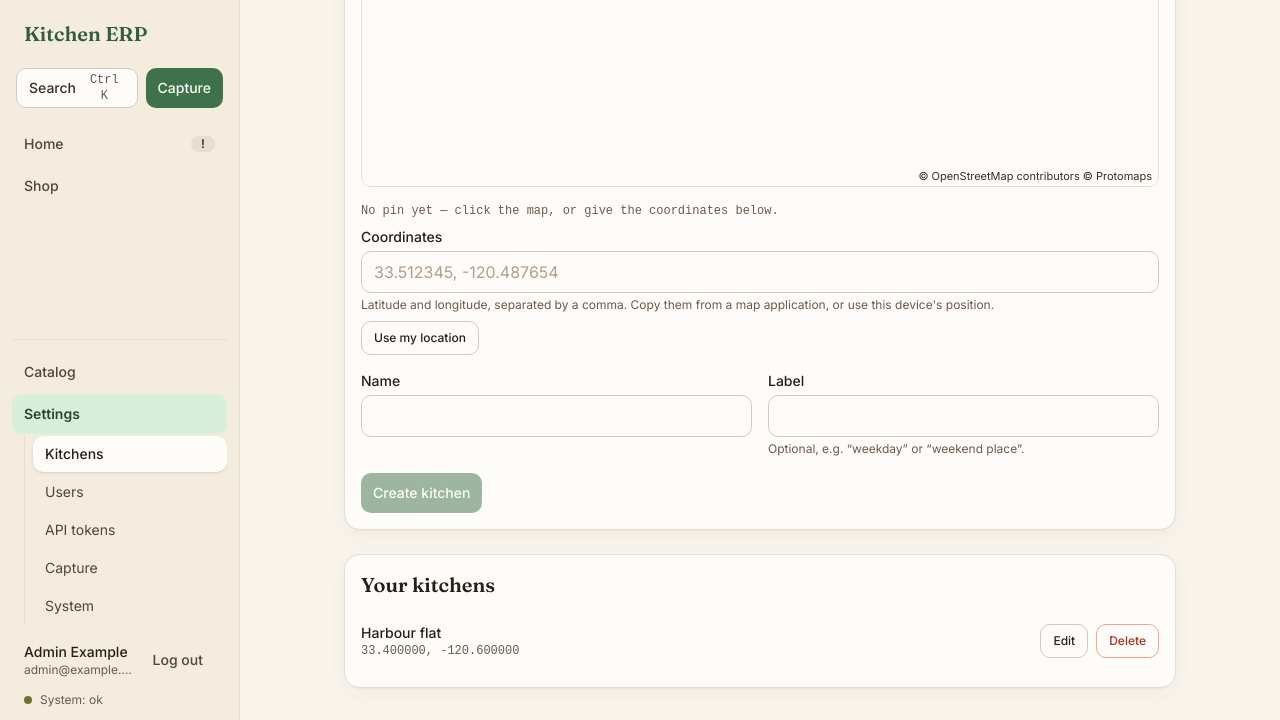
it: vendors › creates a kitchen from the settings page and reports the in-use message on delete
(page scrolled)
Expected: the text "Harbour flat" is shown, [361, 624, 441, 641]
Expected: the button "Create kitchen" is disabled, [361, 473, 482, 513]
Click the button with aria-label "Delete Harbour flat" at (1128,641), box [1096, 624, 1159, 658]
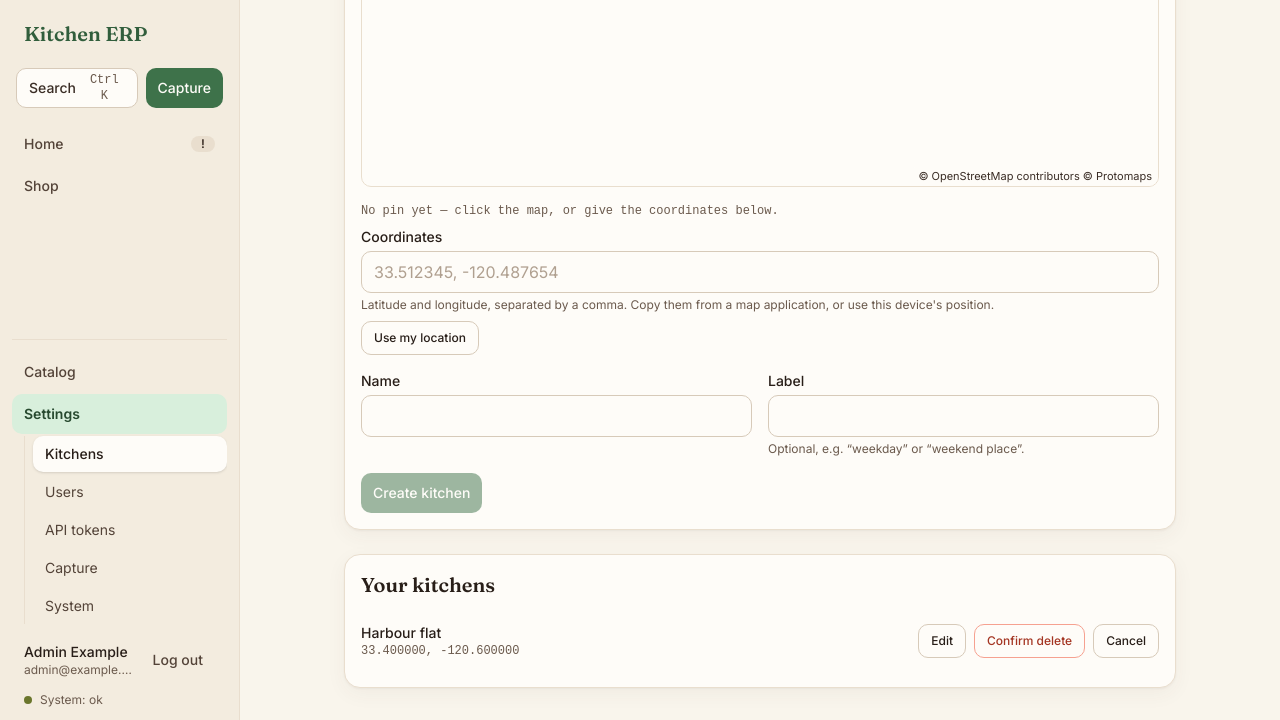
Click the button "Confirm delete" at (1030,641), box [974, 624, 1085, 658]
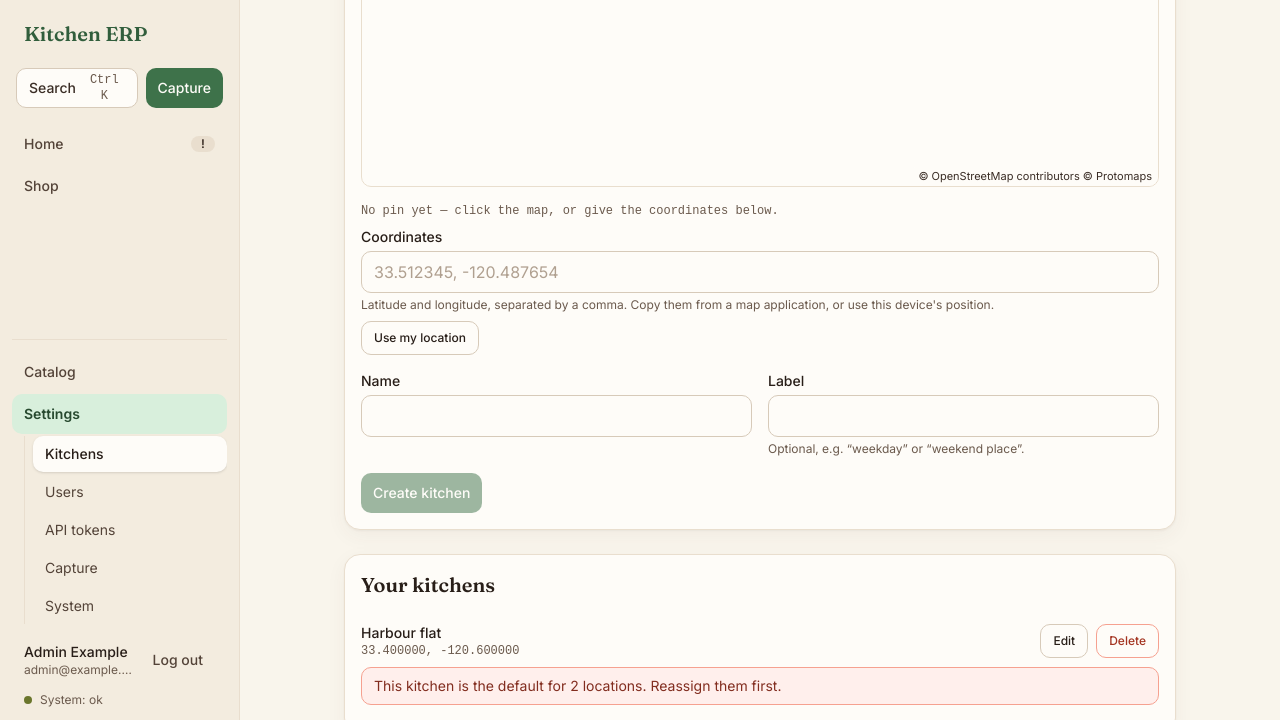
Result: the message "This kitchen is the default for 2 locations. Reassign them first." is shown at [361, 667, 1159, 705]
